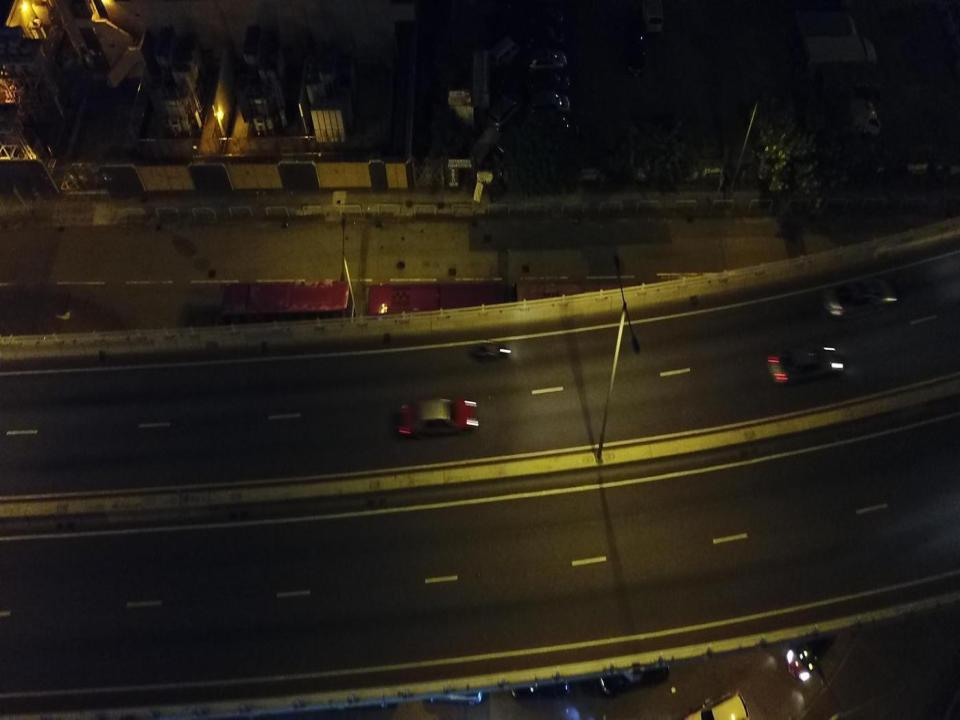bus: (515, 280, 662, 332), (220, 282, 355, 335), (367, 282, 509, 330)
car: (818, 270, 902, 318), (395, 393, 479, 440), (764, 340, 848, 387), (599, 649, 669, 695), (787, 618, 837, 678), (424, 674, 483, 708), (512, 664, 571, 698), (683, 691, 750, 719), (523, 70, 571, 98), (530, 116, 579, 143), (525, 90, 569, 119), (622, 24, 644, 78), (526, 47, 568, 75), (526, 26, 568, 53), (521, 0, 563, 26)
truck: (804, 36, 881, 78), (810, 96, 880, 137), (813, 70, 883, 110), (796, 10, 864, 50)
van: (488, 87, 521, 132), (487, 35, 520, 68), (644, 0, 664, 36)
